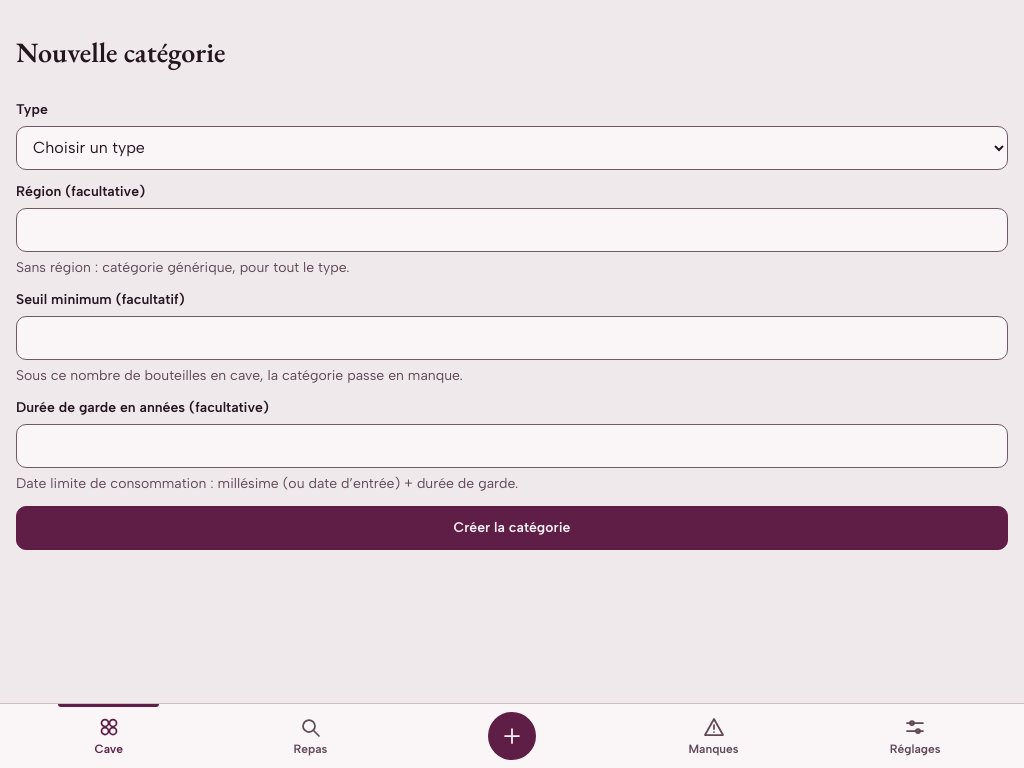
Scenario: Catégories (CdC §2.5, §3.9) › création : saisie vérifiée avant l’envoi, refus du serveur affiché
This screenshot has width=1024, height=768.
Click the button "Créer la catégorie" at (512, 528), box top-left (16, 506), bottom-right (1008, 550)
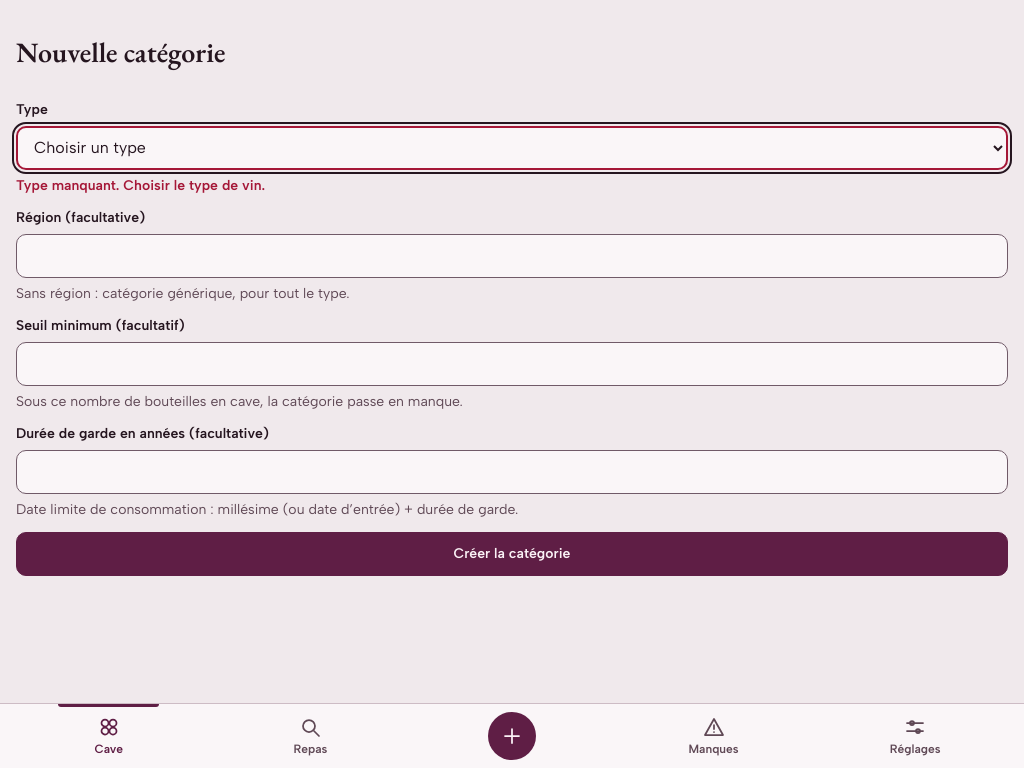
Check: the text "Type manquant. Choisir le type de vin." is shown, box top-left (16, 176), bottom-right (265, 194)
Select "Rouge" in the dropdown labelled "Type" at (512, 148), box top-left (16, 126), bottom-right (1008, 170)
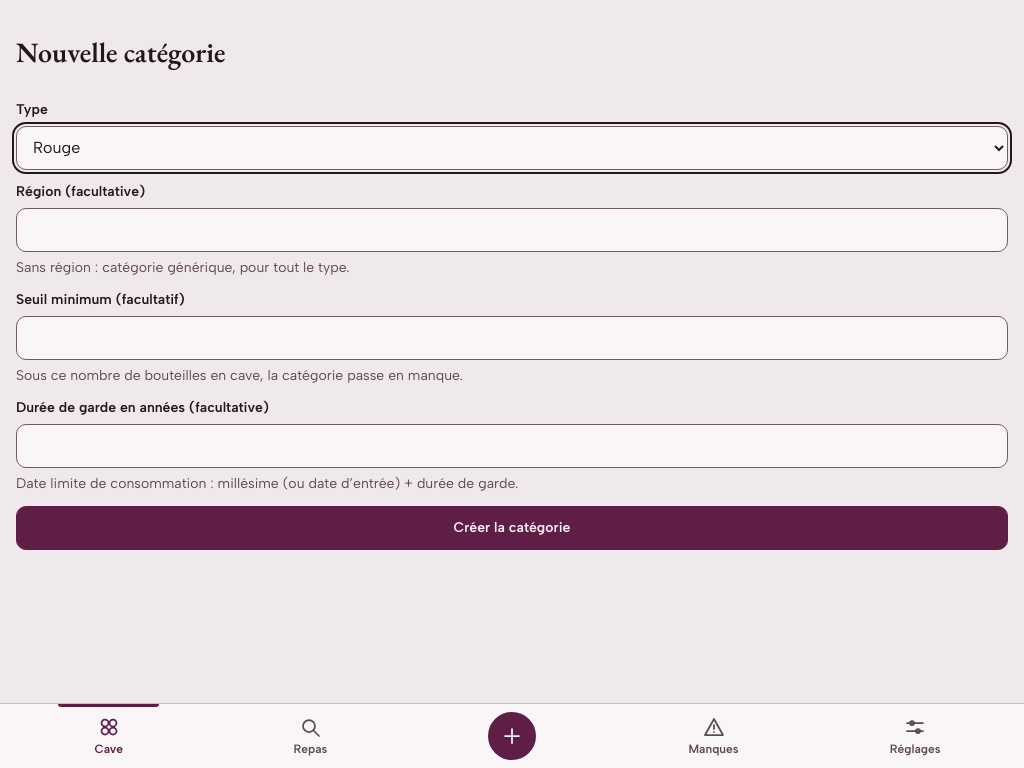
Type "2,5" into the field labelled "Seuil minimum (facultatif)" at (512, 338), box top-left (16, 316), bottom-right (1008, 360)
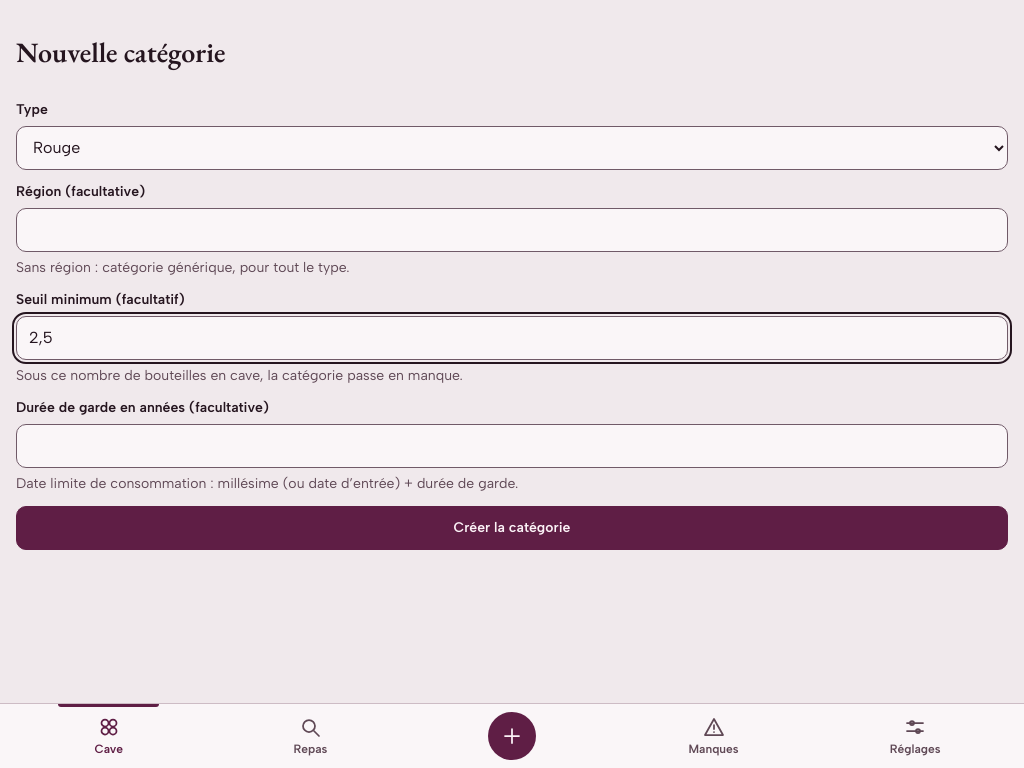
Click the button "Créer la catégorie" at (512, 528), box top-left (16, 506), bottom-right (1008, 550)
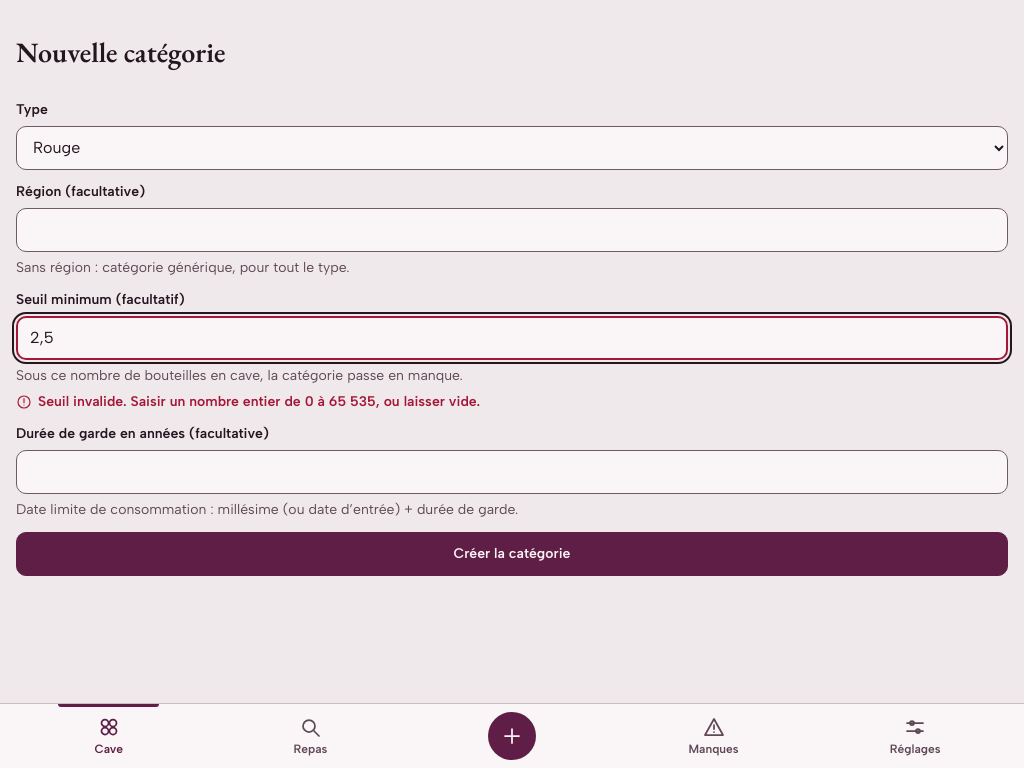
Check: the text "Seuil invalide. Saisir un nombre entier de 0 à 65 535, ou laisser vide." is shown, box top-left (16, 392), bottom-right (480, 410)
Clear the field labelled "Seuil minimum (facultatif)" at (512, 338), box top-left (16, 316), bottom-right (1008, 360)
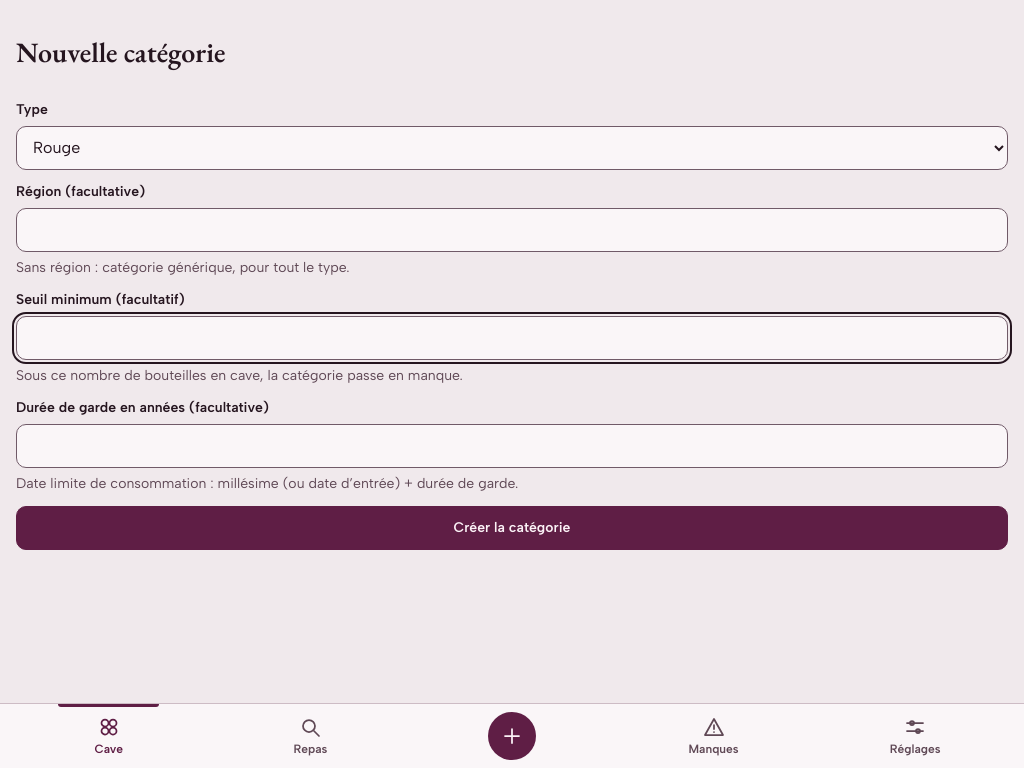
Click the button "Créer la catégorie" at (512, 528), box top-left (16, 506), bottom-right (1008, 550)
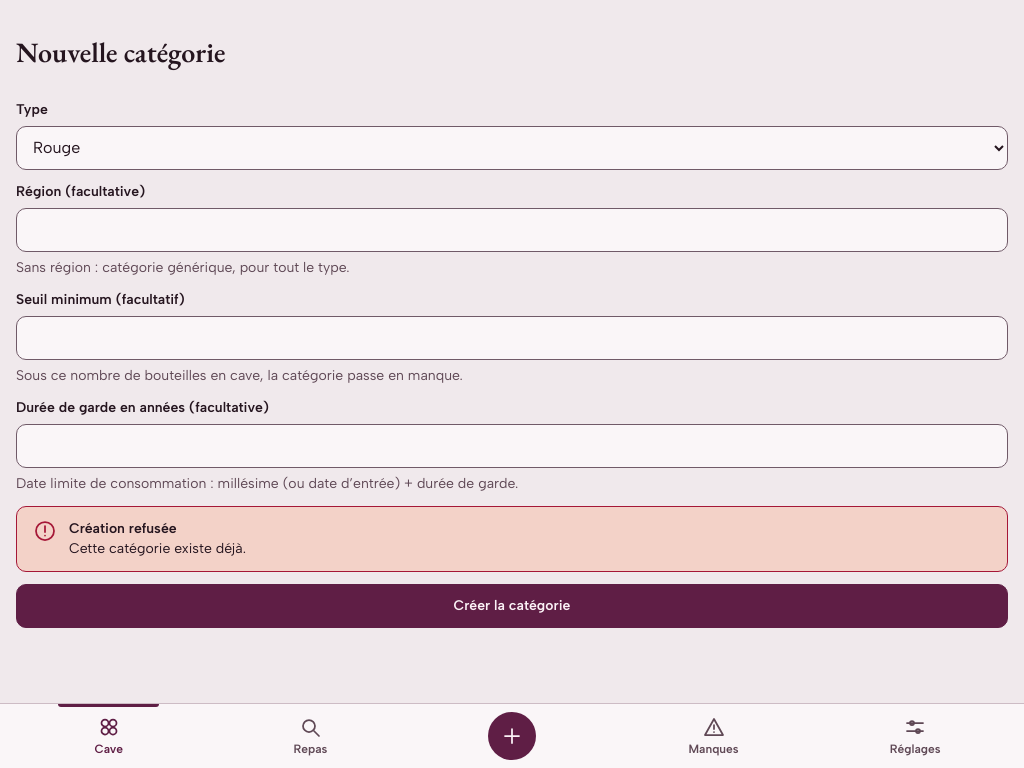
Check: the message "Création refusée" shows "Cette catégorie existe déjà.", box top-left (69, 540), bottom-right (246, 556)
